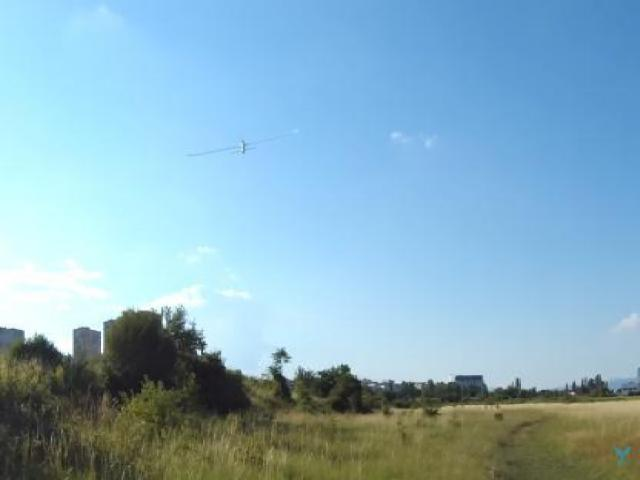uav: (180, 119, 306, 176)
